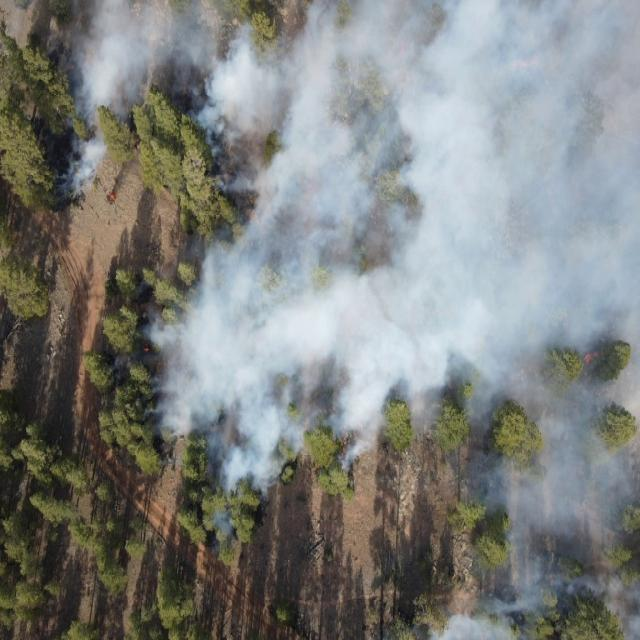fire: (504, 54, 540, 68), (585, 352, 599, 363), (107, 192, 117, 204), (142, 346, 150, 354)
smoke: (186, 109, 640, 464), (52, 2, 640, 109), (471, 464, 640, 610), (121, 266, 185, 449), (204, 464, 283, 556), (48, 109, 110, 210), (418, 610, 530, 640), (612, 610, 640, 640), (341, 462, 355, 478)
